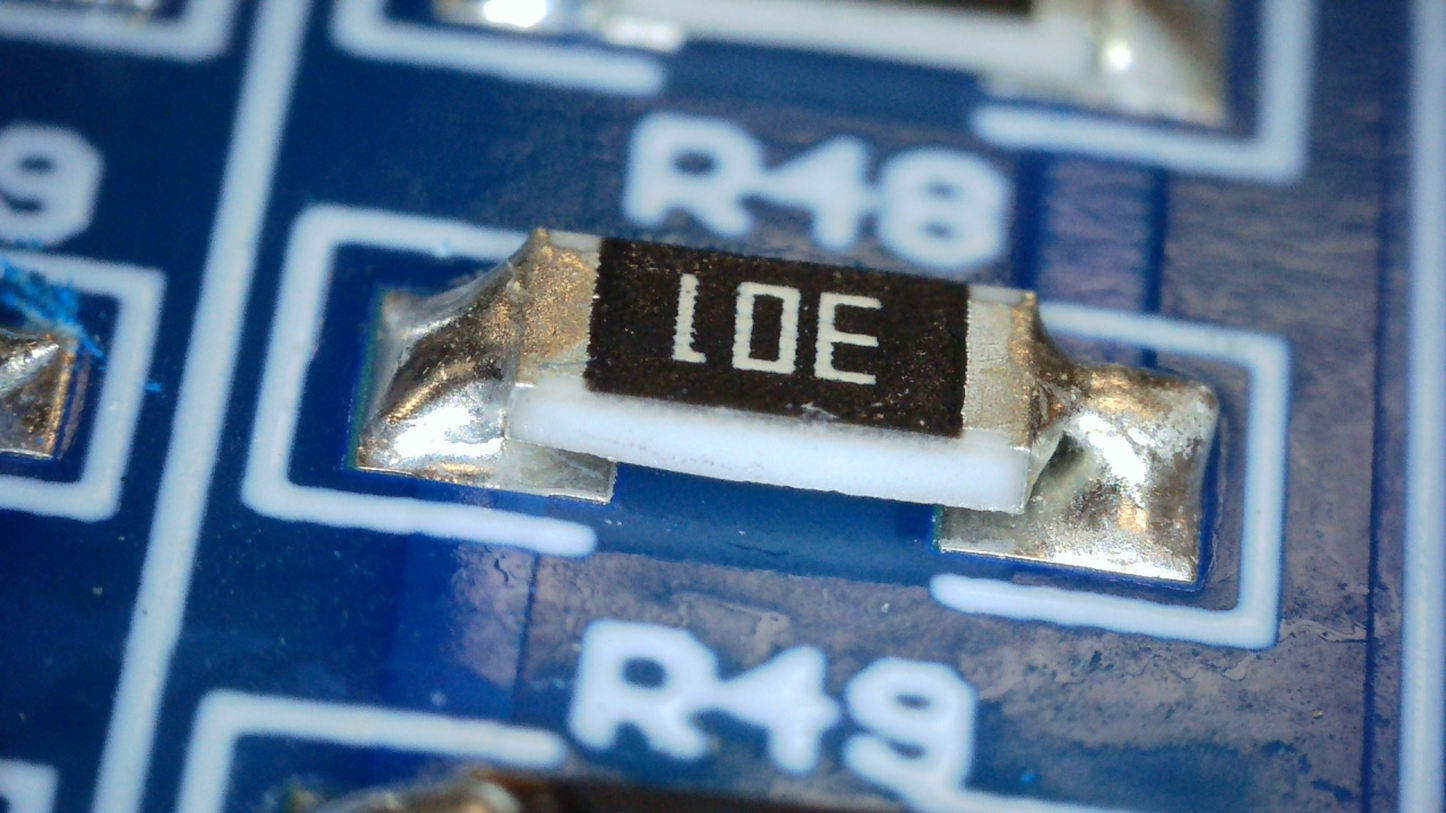NG: (1022, 363, 1221, 581)
OK: (358, 227, 600, 487)
